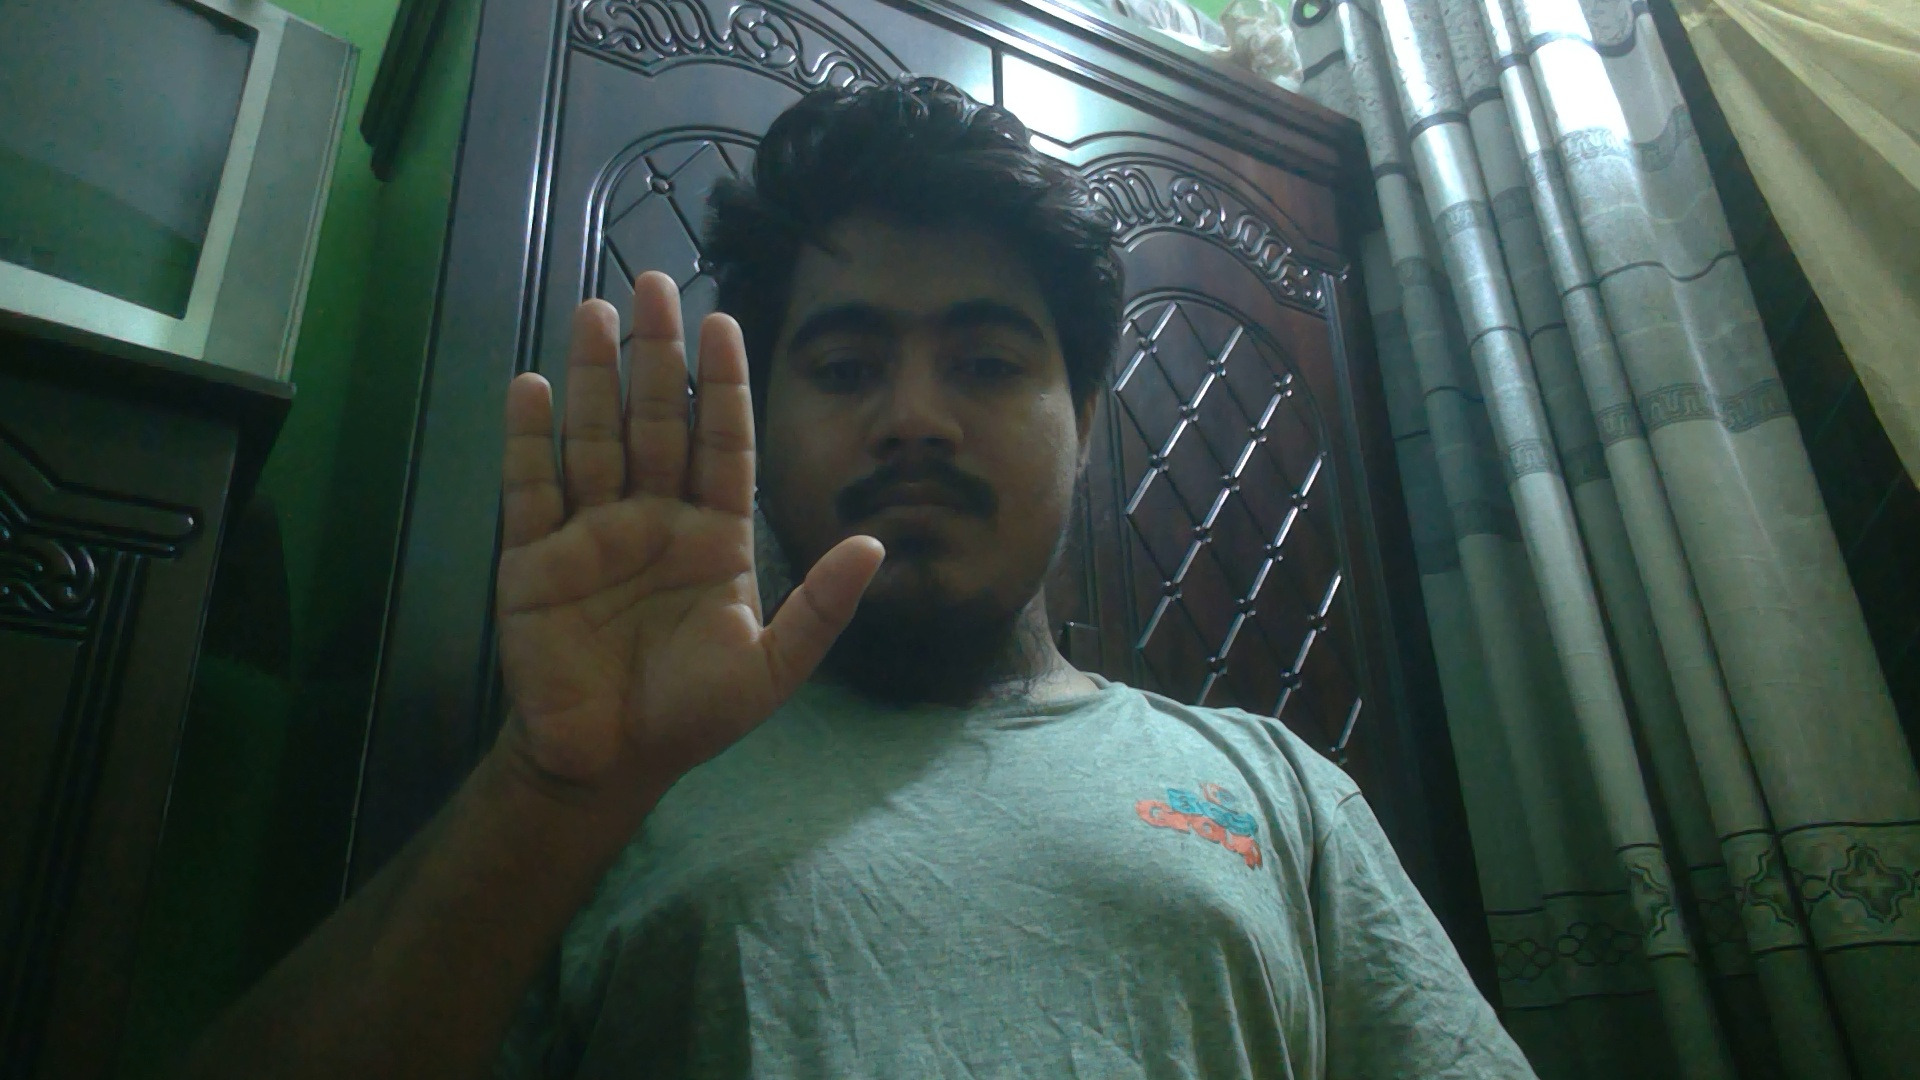Hello: (496, 264, 899, 787)
